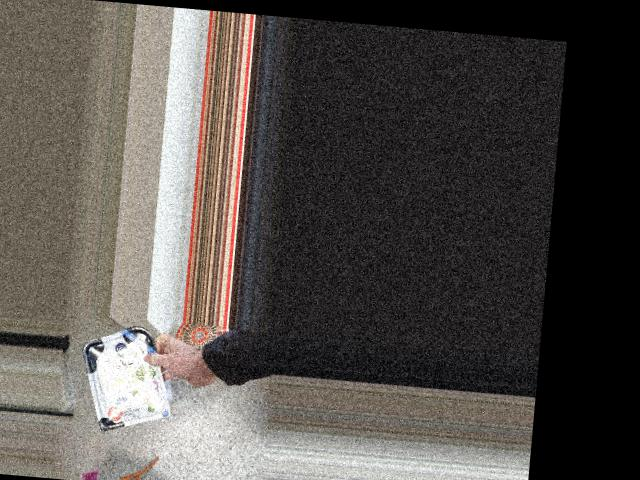cheese: (86, 328, 160, 423)
